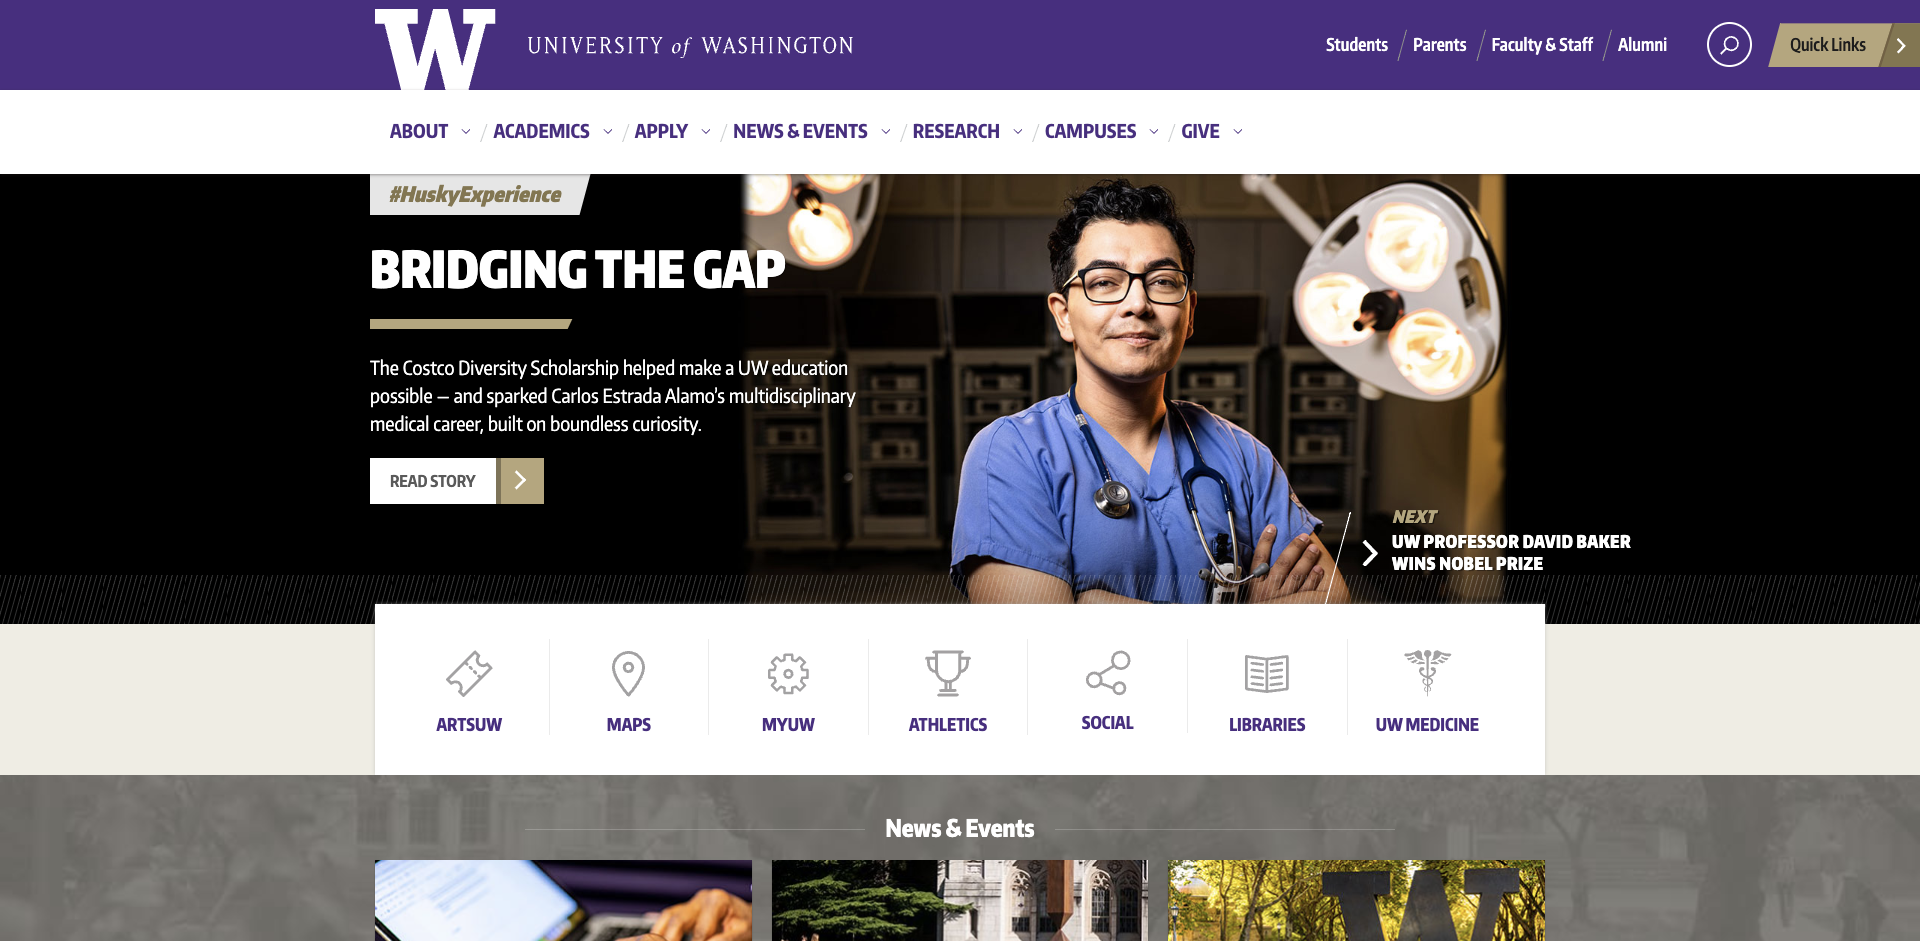button: (1392, 529, 1632, 573), (1752, 22, 1920, 67), (370, 458, 496, 504), (1707, 22, 1752, 67), (463, 124, 474, 134), (1234, 124, 1245, 134), (605, 124, 615, 134), (703, 124, 713, 134), (883, 124, 893, 134), (1015, 124, 1025, 134), (1151, 124, 1161, 134)
input: (516, 0, 1085, 4), (1085, 0, 1145, 4)
link: (389, 638, 550, 735), (709, 638, 869, 735), (1188, 638, 1348, 735), (550, 638, 709, 735), (869, 638, 1029, 735), (1348, 638, 1507, 735), (1029, 638, 1188, 733), (719, 110, 898, 169), (479, 110, 620, 169), (1030, 110, 1167, 169), (898, 110, 1030, 169), (375, 110, 479, 169), (1491, 22, 1618, 70), (620, 110, 719, 169), (1167, 110, 1250, 169), (1326, 22, 1413, 70), (1413, 22, 1491, 70), (1618, 22, 1692, 70), (1910, 510, 1920, 535), (1910, 445, 1920, 469), (1910, 478, 1920, 502), (1910, 543, 1920, 567), (1910, 576, 1920, 600)
